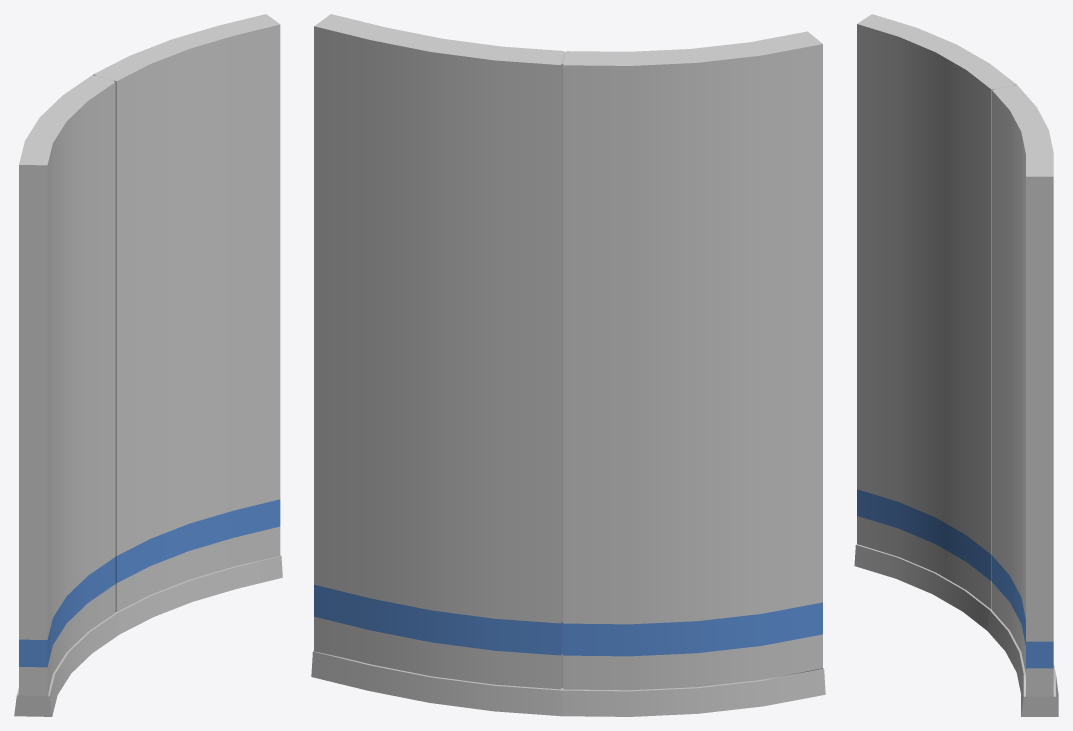
The model's file is LaboWallCurve1.fbx.
3 renders of one model, left to right at view 1: azimuth 30°, elevation 25°; view 2: azimuth 150°, elevation 25°; view 3: azimuth 270°, elevation 25°, orthographic. The views are drawn at different scales.
Visible parts, largest first — view 1: Cube.002; view 2: Cube.002; view 3: Cube.002.
Boxes of the visible parts, x1=… form: Cube.002: x1=14, y1=14, x2=282, y2=716; Cube.002: x1=311, y1=14, x2=825, y2=716; Cube.002: x1=854, y1=14, x2=1058, y2=716.
Bounding box in the file's own units: 717 × 1100 × 377.
